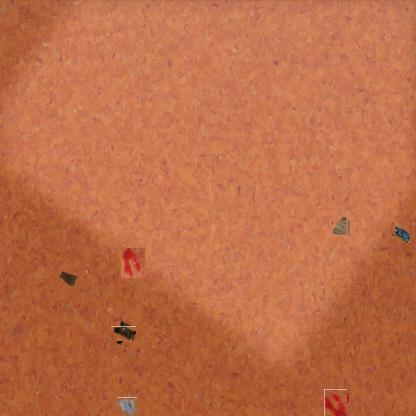dirty: (392, 221, 414, 242), (57, 269, 79, 289), (113, 324, 134, 344), (118, 396, 137, 415), (331, 217, 350, 236)
liquid: (121, 248, 145, 278), (322, 390, 348, 416)
